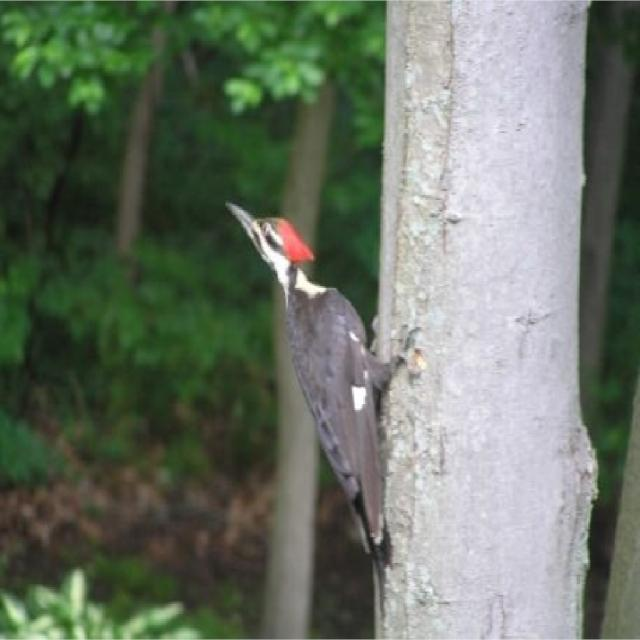Woodpecker: (223, 194, 391, 562)
